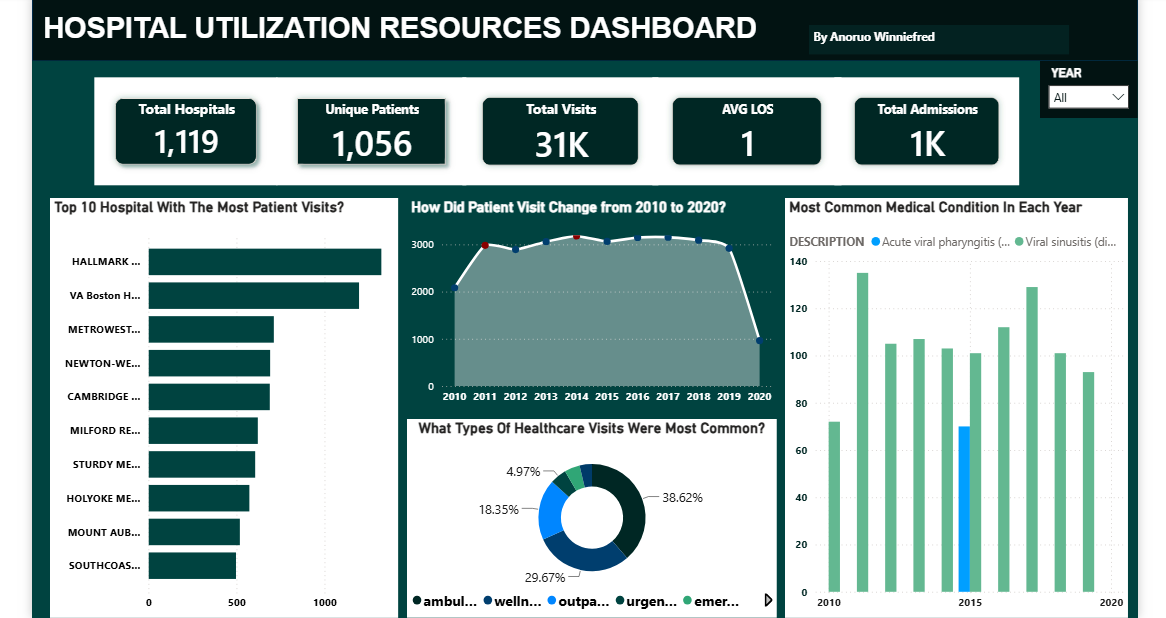

This screenshot's page, from the dashboard's own definition file:
{"tool":"powerbi","page":{"name":"Page 1","canvas":[1280,720],"ordinal":0},"visuals":[{"type":"shape","box":[0,0,1280.3,75.2],"z":0},{"type":"cardVisual","fields":{"Data":["Sum(Unique_patients.Unique_patients)"]},"box":[277.8,89.1,230.4,135.4],"z":1000},{"type":"lineChart","title":" How Did Patient Visit Change from 2010 to 2020?","fields":{"Category":["Total_visit.Year_of_Visit"],"Y":["Sum(Total_visit.Total_visit)"]},"box":[434.1,233.8,428.3,247.7],"z":2000},{"type":"cardVisual","fields":{"Data":["Sum(Total_visit.Total_visit)"]},"box":[493.1,89.1,237.3,135.4],"z":3000},{"type":"cardVisual","fields":{"Data":["Sum(Total_Hospitals.Total_hospitals)"]},"box":[67.1,89.1,222.3,135.4],"z":4000},{"type":"cardVisual","fields":{"Data":["Sum(Total_admissions.total_admissions)"]},"box":[923.7,89.1,224.6,135.4],"z":5000},{"type":"cardVisual","fields":{"Data":["Sum(Avg LOS.AVG_LOS)"]},"box":[713.1,89.1,229.2,135.4],"z":6000},{"type":"donutChart","title":"What Types Of Healthcare Visits Were Most Common?","fields":{"Category":["encounterdis.ENCOUNTERCLASS"],"Y":["Sum(encounterdis.Total_encounter)"]},"box":[434.1,489.6,428.3,230.4],"z":7000},{"type":"clusteredBarChart","title":"Top 10 Hospital With The Most Patient Visits?","fields":{"Category":["top10_hospital.NAME"],"Y":["Sum(top10_hospital.Top_encounter Hierarchy.Top_encounter)"]},"box":[20.8,233.8,402.8,486.2],"z":8000},{"type":"clusteredColumnChart","title":"Most Common Medical Condition In Each Year ","fields":{"Category":["condition.Start_year"],"Y":["Sum(condition.Total_conditions)"],"Series":["condition.DESCRIPTION"]},"box":[871.6,233.8,397,486.2],"z":9000},{"type":"slicer","fields":{"Values":["encounter_year.encounter_year"]},"box":[1166.8,75.2,113.1,65.5],"z":10000},{"type":"textbox","box":[899.4,33.6,301,33.6],"z":11000}]}

Visuals, with their boxes in screenshot pixels (x1, y1, x2, y2):
shape: (15, 0, 1141, 63)
cardVisual - Sum(Unique_patients.Unique_patients): (260, 75, 462, 194)
" How Did Patient Visit Change from 2010 to 2020?" lineChart: (397, 203, 774, 420)
cardVisual - Sum(Total_visit.Total_visit): (449, 75, 658, 194)
cardVisual - Sum(Total_Hospitals.Total_hospitals): (74, 75, 270, 194)
cardVisual - Sum(Total_admissions.total_admissions): (828, 75, 1025, 194)
cardVisual - Sum(Avg LOS.AVG_LOS): (642, 75, 844, 194)
"What Types Of Healthcare Visits Were Most Common?" donutChart: (397, 428, 774, 617)
"Top 10 Hospital With The Most Patient Visits?" clusteredBarChart: (33, 203, 388, 617)
"Most Common Medical Condition In Each Year " clusteredColumnChart: (782, 203, 1131, 617)
slicer - encounter_year.encounter_year: (1042, 63, 1141, 121)
textbox: (806, 27, 1071, 56)
